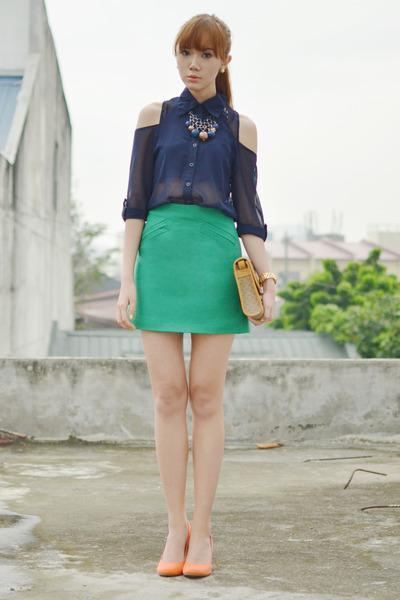bag: (234, 256, 267, 323)
shirt: (123, 89, 267, 242)
shoe: (155, 540, 211, 579)
skirt: (132, 204, 248, 334)
